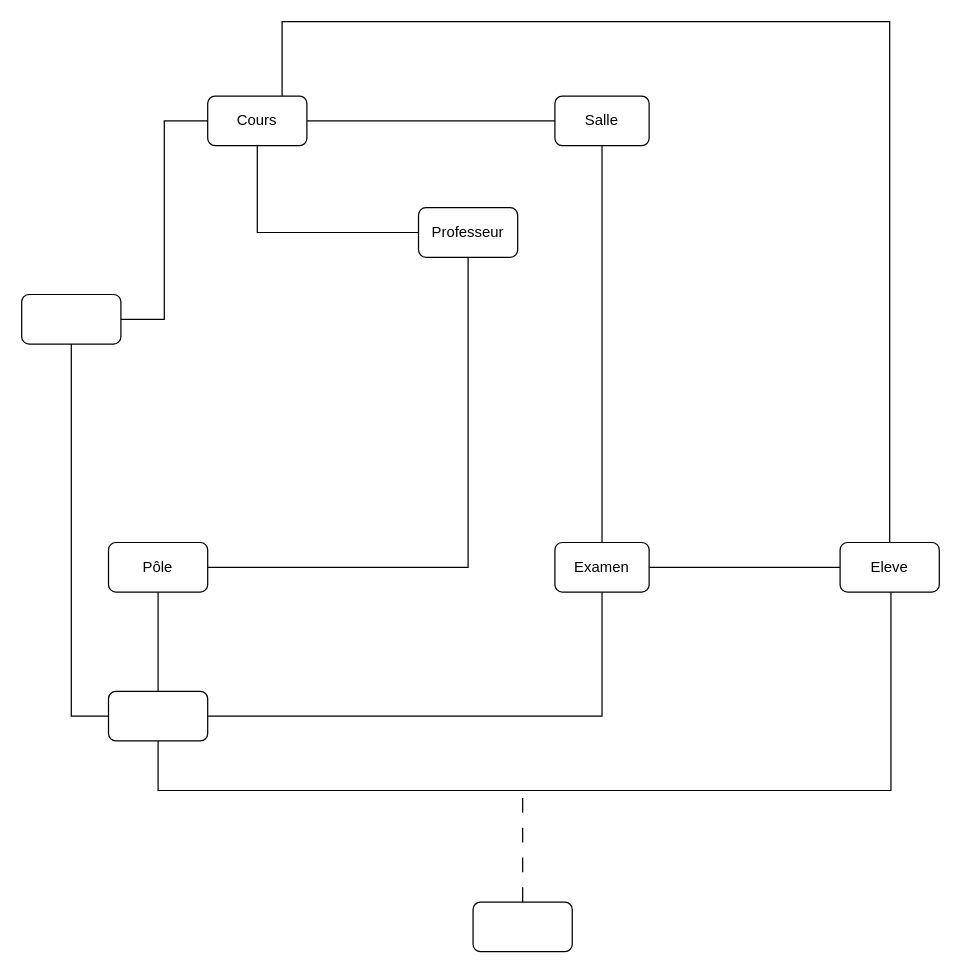
This 961x973 diagram has some shape labels left out. Each missing label, with the box of its shape:
Cursus: (107, 690, 208, 741)
Instrument: (472, 901, 572, 952)
Matière: (20, 293, 121, 344)
